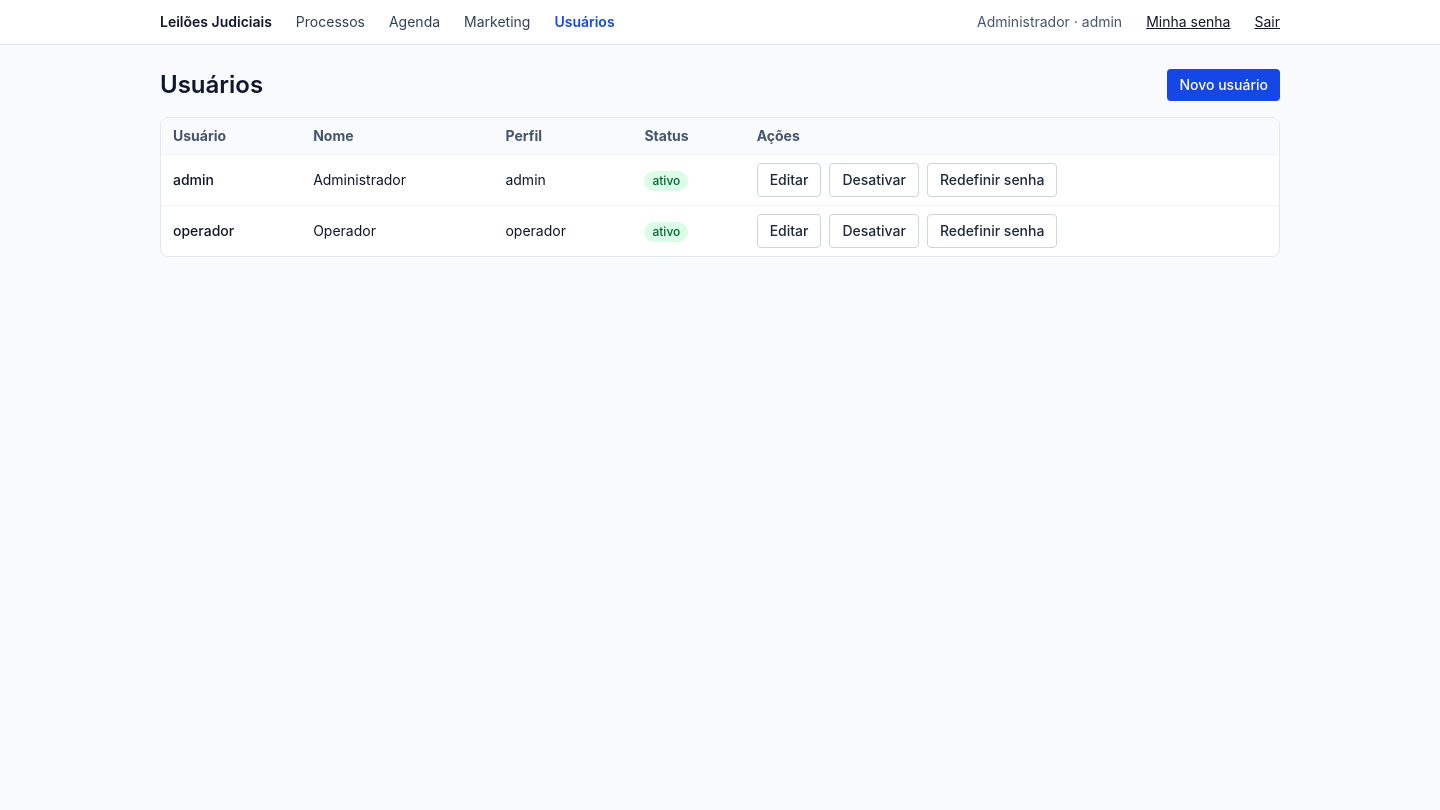
it: UsuariosPage › cria usuário e ele aparece na lista
Click the button "Novo usuário": (1224, 85) left=1167, top=69, right=1280, bottom=101
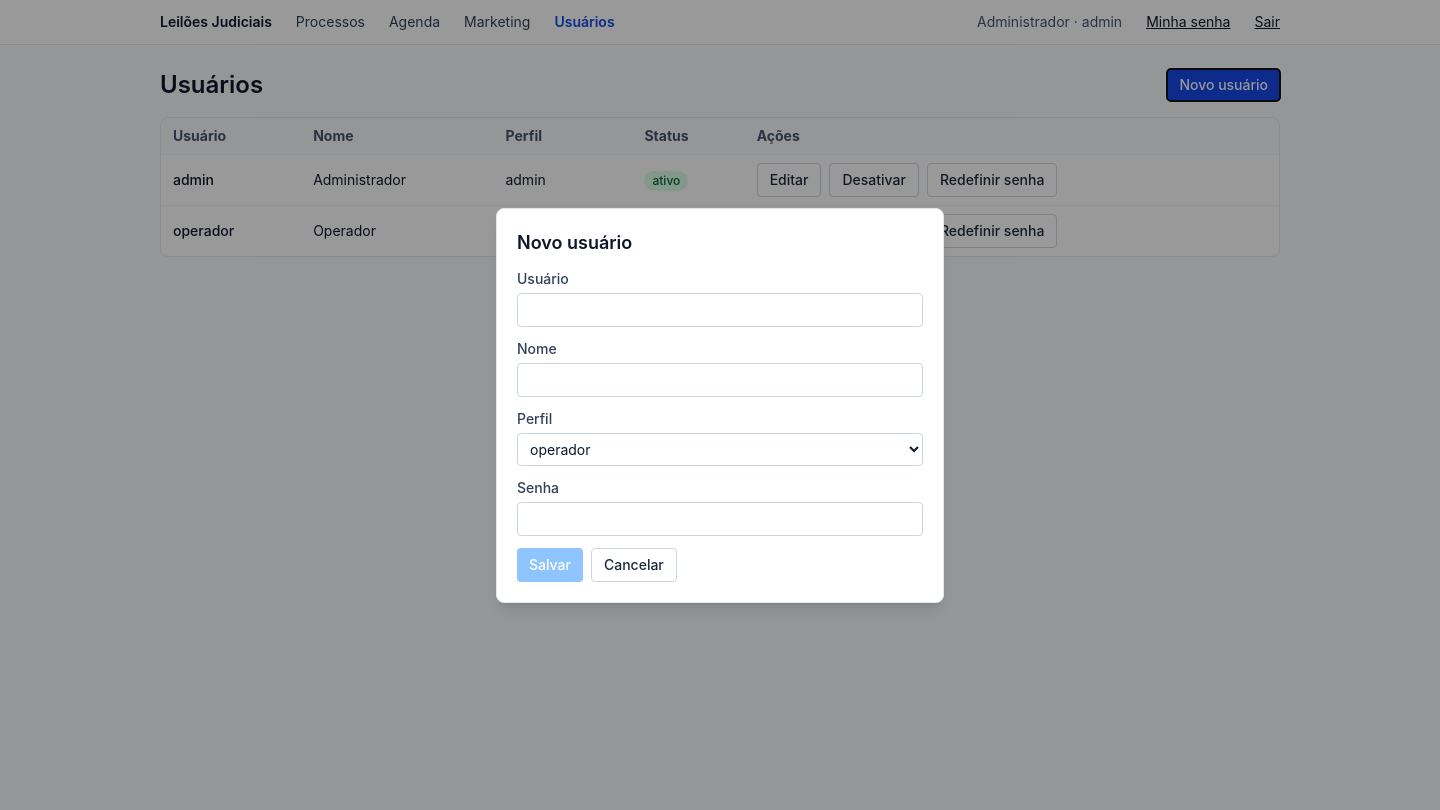
In the field labelled "Usuário": (720, 310) left=517, top=292, right=923, bottom=326, type "maria"
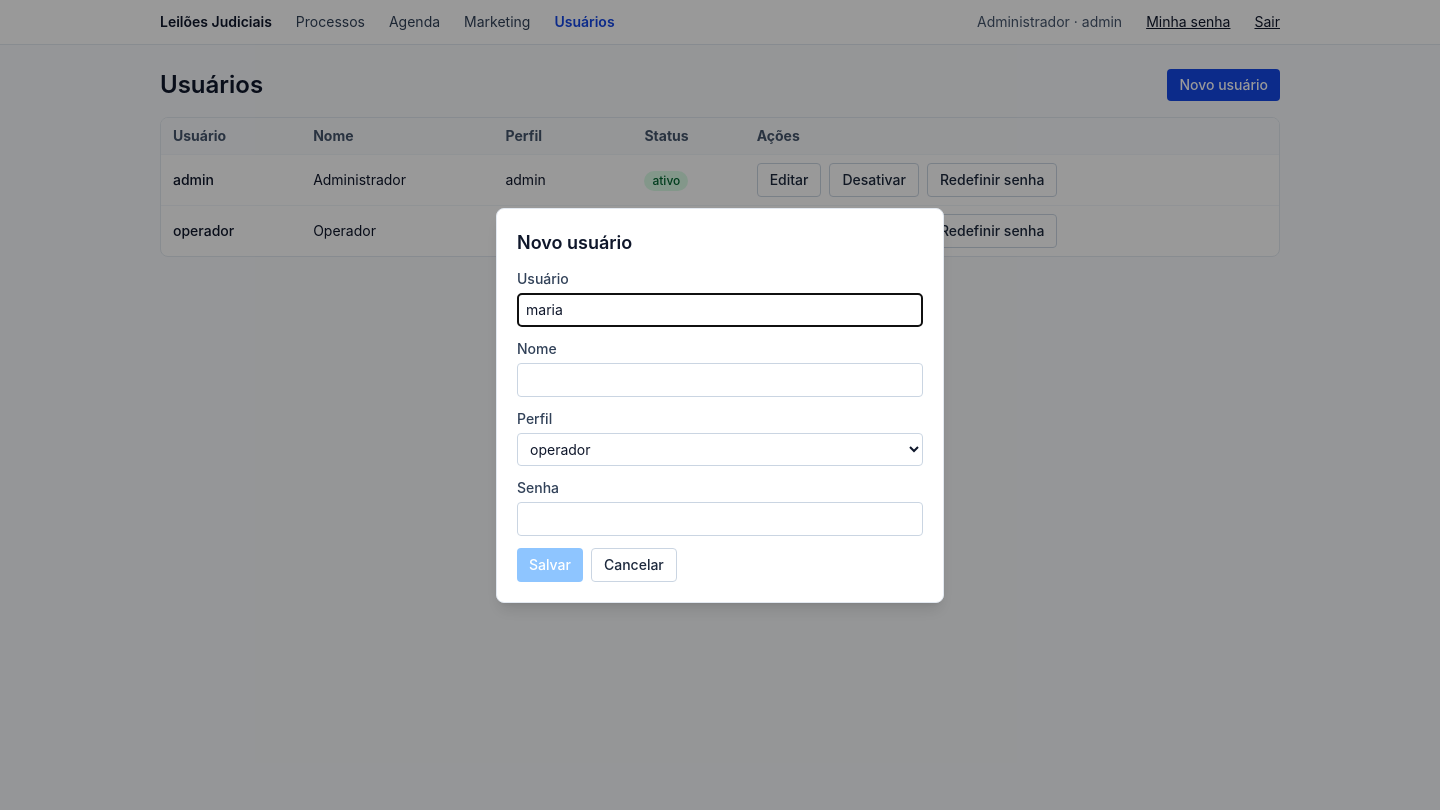
In the field labelled "Nome": (720, 380) left=517, top=362, right=923, bottom=396, type "Maria Souza"
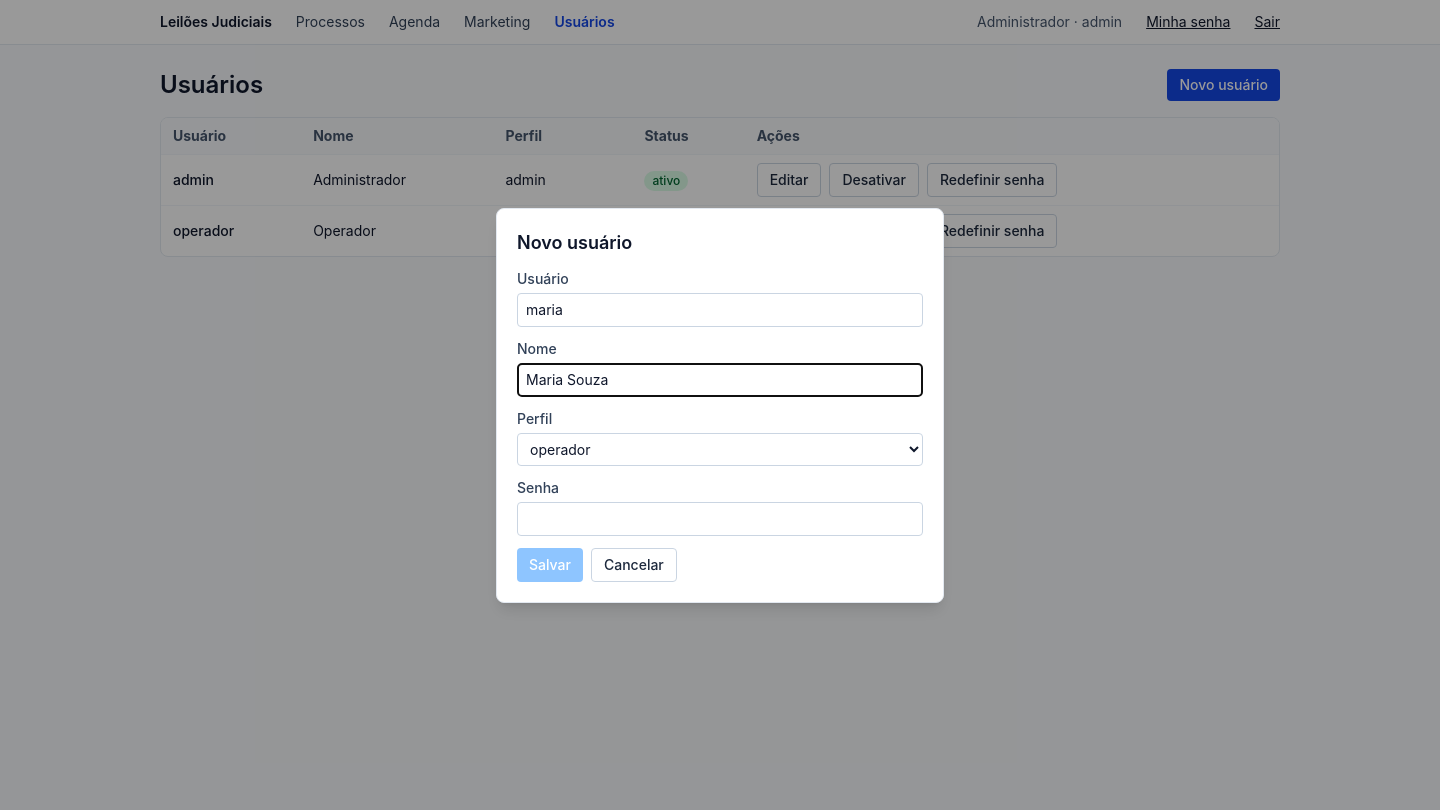
Select "operador" in the dropdown labelled "Perfil": (720, 449) left=517, top=432, right=923, bottom=466
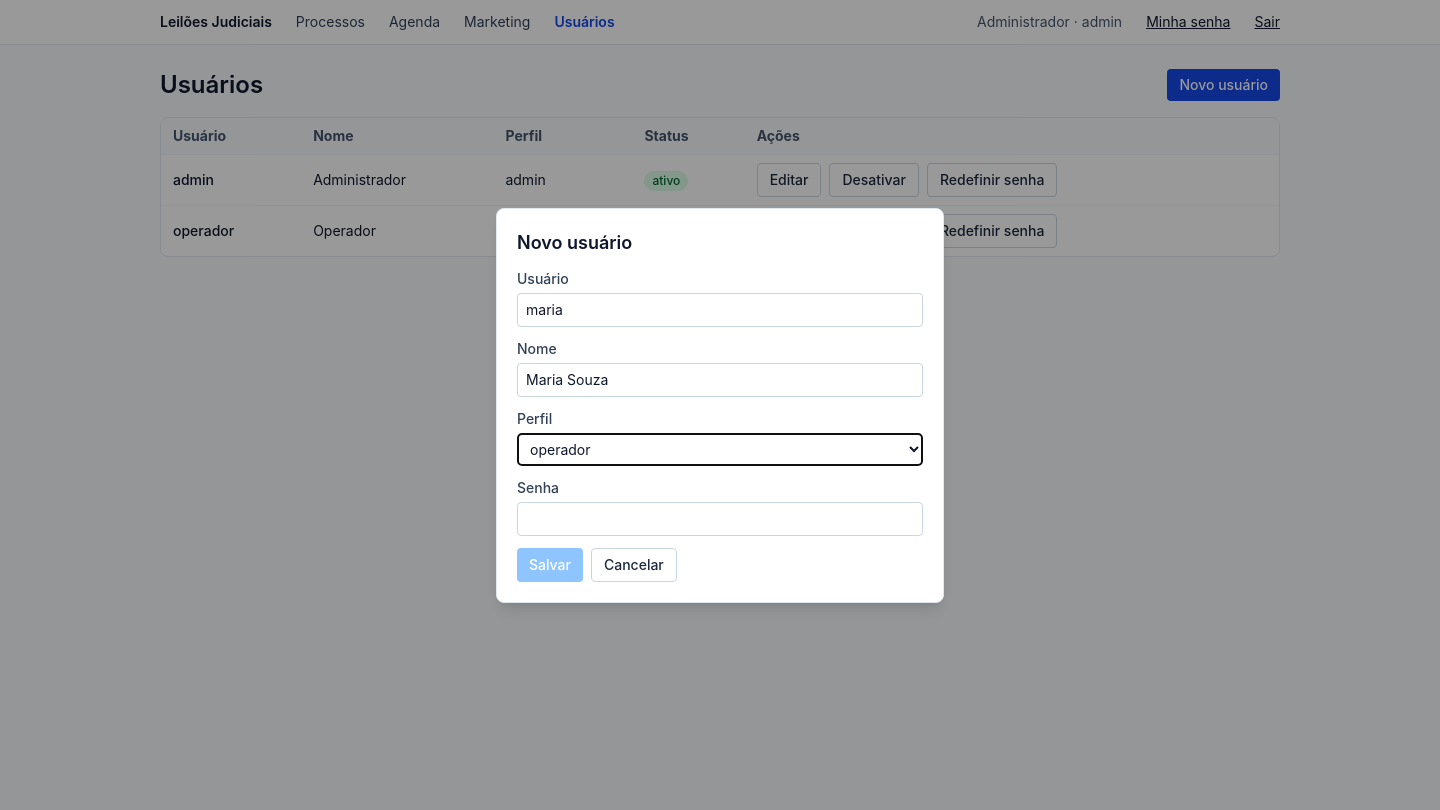
In the password field labelled "Senha": (720, 518) left=517, top=502, right=923, bottom=536, type "senhaForte1"
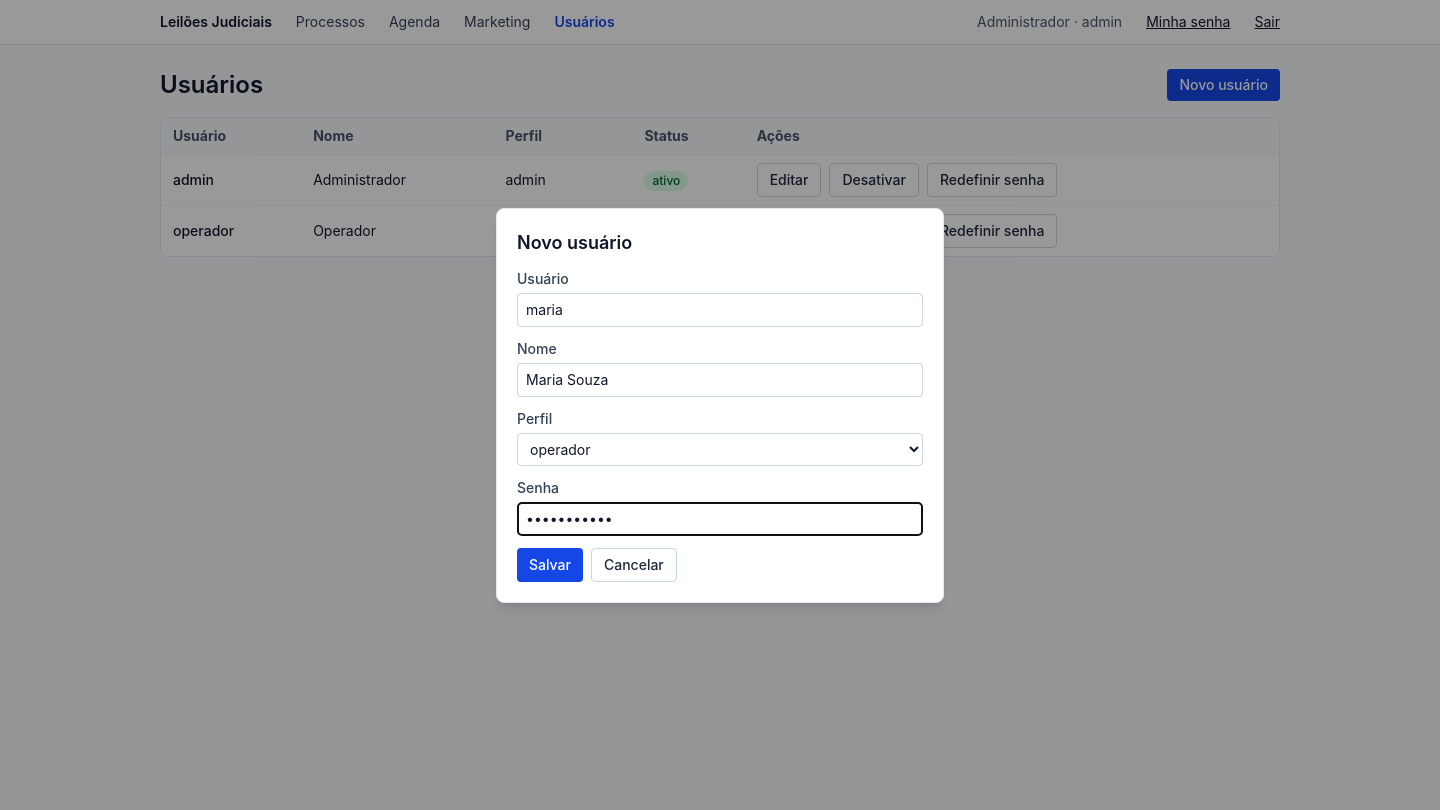
Click the button "Salvar": (550, 564) left=517, top=548, right=583, bottom=582
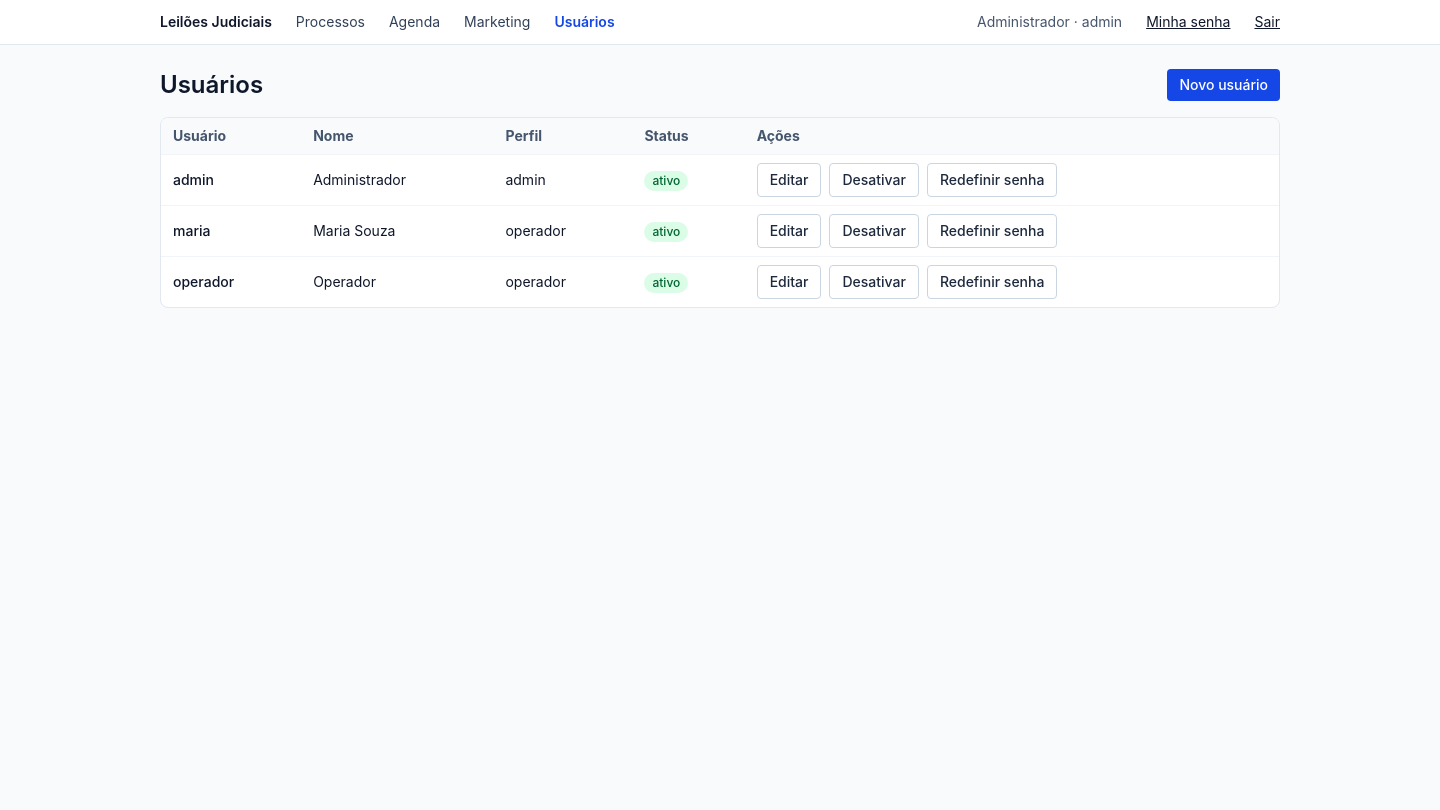
expect the column heading "maria" is shown: met, box left=161, top=206, right=301, bottom=256
expect the text "Maria Souza" is shown: met, box left=301, top=206, right=493, bottom=256
